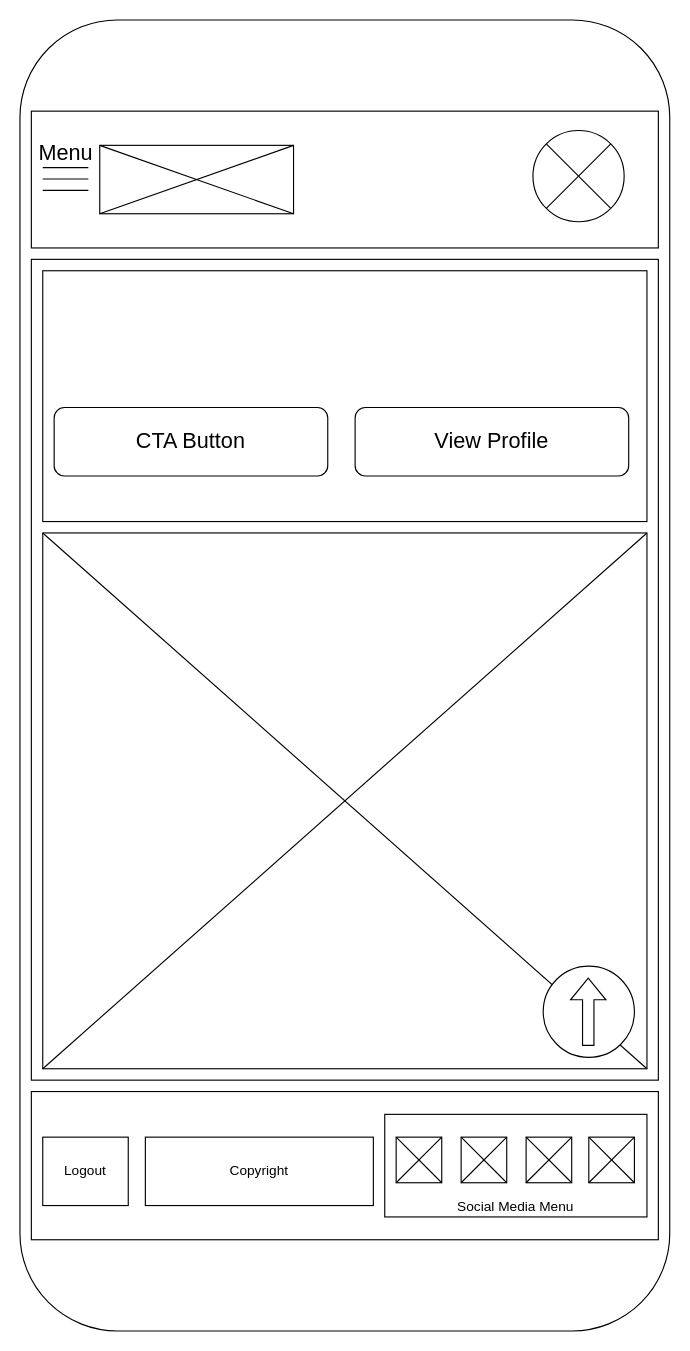
Some shapes in this 690 by 1351 pixel diagram are drawn without their labels. The box of each missing label's shape, as (x1, y1, x2, y2) in pixels:
Account menu: (532, 129, 624, 222)
Logo: (99, 144, 294, 214)
Welcome ${username}: (42, 270, 647, 522)
